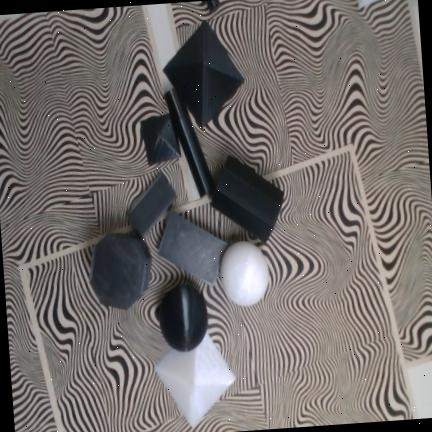Cilindro: (163, 88, 215, 198), (206, 0, 219, 12)
Esfera: (159, 284, 207, 352), (219, 241, 269, 306)
Paralelepipedo: (159, 212, 227, 286), (126, 173, 177, 236)
Piramide: (162, 21, 244, 129), (154, 331, 235, 426), (141, 113, 181, 165)
Prisma_hexagonal: (210, 156, 284, 244), (88, 234, 151, 309)
